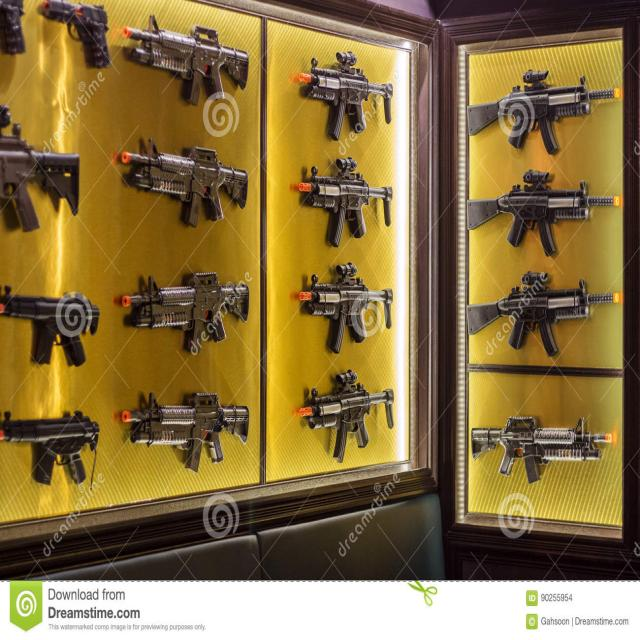HandGun: (36, 0, 111, 69)
Rifle: (113, 139, 248, 229), (122, 16, 249, 106), (115, 393, 249, 473), (121, 273, 250, 356), (472, 417, 610, 484)
SMG: (467, 171, 620, 258), (466, 272, 620, 358), (469, 72, 615, 156), (291, 371, 394, 464), (293, 156, 395, 249), (294, 264, 395, 357), (291, 53, 395, 143), (291, 158, 392, 250), (289, 54, 393, 141), (298, 372, 397, 463), (298, 263, 392, 356), (2, 290, 100, 369), (2, 413, 100, 488)
